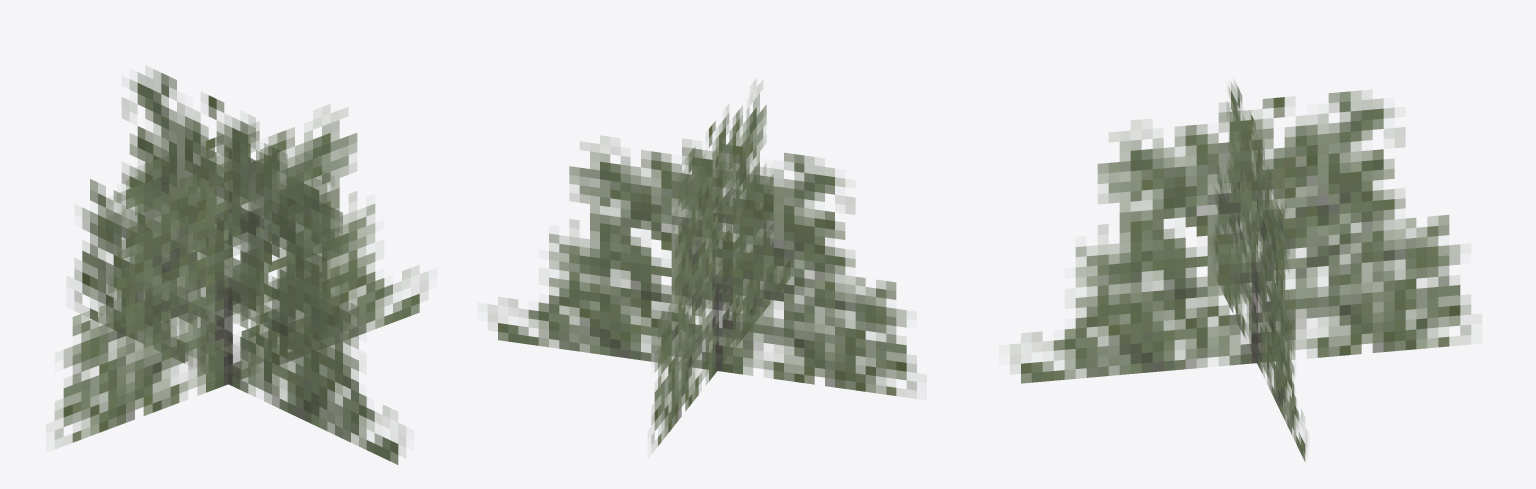
Rendered from tree-shrub.018_lev3.glb.
3 views of the same model, side by side, from view 1: azimuth 30°, elevation 25°; view 2: azimuth 150°, elevation 25°; view 3: azimuth 270°, elevation 25° (orthographic). The views are drawn at different scales.
Parts seen in each view (by area): view 1: tree-shrub.018_lev3; view 2: tree-shrub.018_lev3; view 3: tree-shrub.018_lev3.
Boxes of the visible parts, bbox=[...] form: tree-shrub.018_lev3: bbox=[54, 66, 428, 464]; tree-shrub.018_lev3: bbox=[488, 80, 916, 452]; tree-shrub.018_lev3: bbox=[1010, 81, 1471, 461].
Bounding box in the file's own units: 11.73 × 6.45 × 11.73.
Materials: 1 (1 with a texture image).
